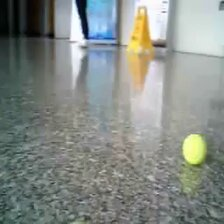tennis: (182, 134, 209, 164)
